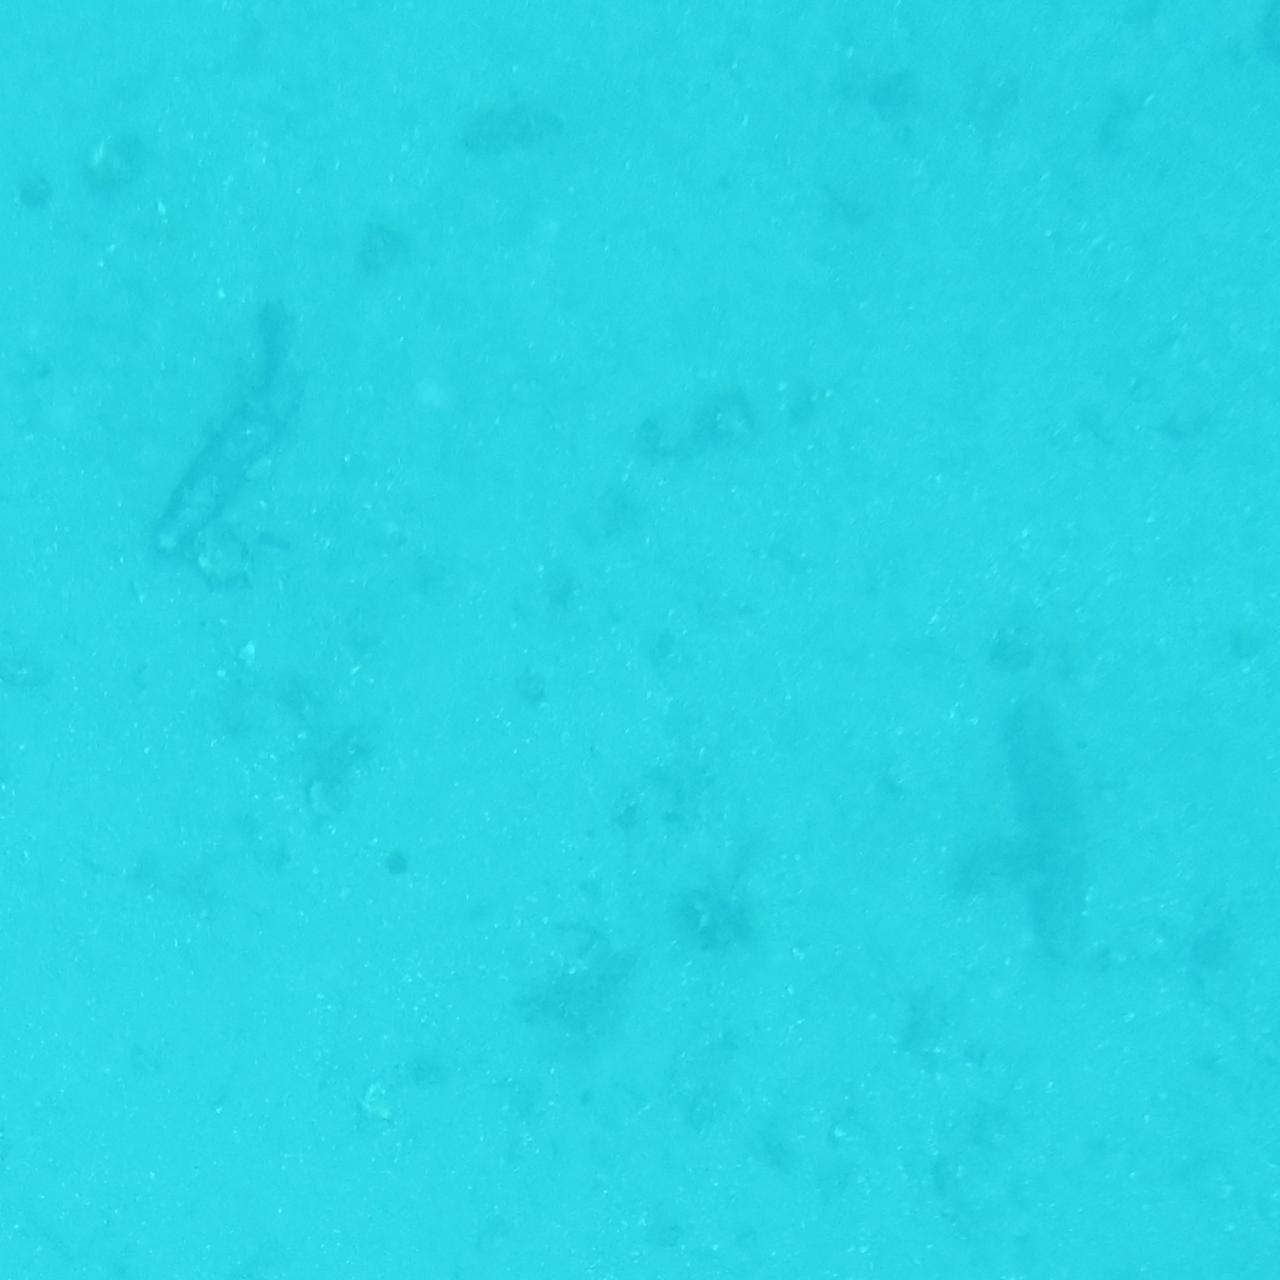Holothuria tubulosa: (156, 295, 326, 571), (985, 692, 1092, 1005)
